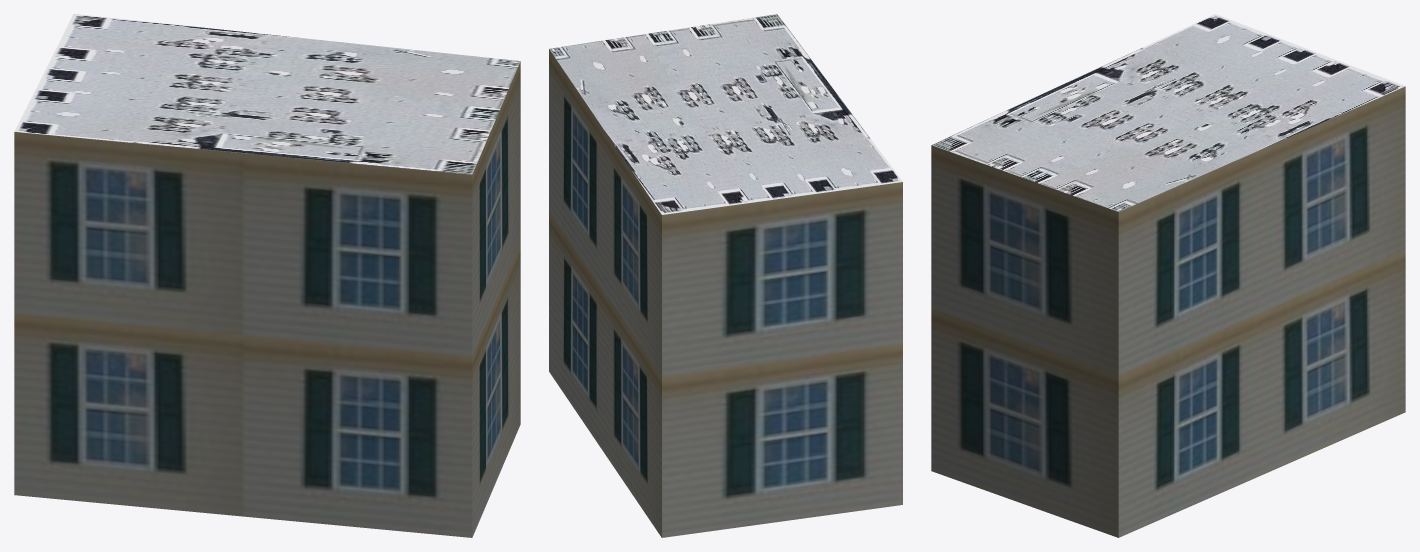
Rendered from ResTex__1668.fbx.
3 renders of one model, left to right at view 1: azimuth 30°, elevation 25°; view 2: azimuth 150°, elevation 25°; view 3: azimuth 270°, elevation 25°, orthographic. The views are drawn at different scales.
Parts seen in each view (by area): view 1: CityEngineMaterial_7_m, CityEngineMaterial_4_m; view 2: CityEngineMaterial_7_m, CityEngineMaterial_4_m; view 3: CityEngineMaterial_7_m, CityEngineMaterial_4_m.
Part boxes in pixels (x1,y1,x2,y2): CityEngineMaterial_7_m: (14,61,520,537); CityEngineMaterial_4_m: (14,14,520,174); CityEngineMaterial_7_m: (549,49,902,537); CityEngineMaterial_4_m: (549,14,902,214); CityEngineMaterial_7_m: (931,86,1405,537); CityEngineMaterial_4_m: (931,14,1404,211).
Bounding box in the file's own units: 7.82 × 6 × 7.91.
Materials: 2 (2 with a texture image).
